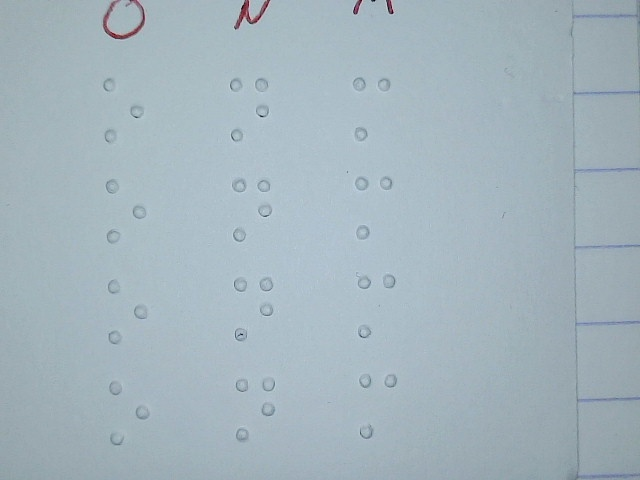M: (348, 74, 394, 144), (350, 173, 396, 243), (354, 272, 400, 342), (355, 370, 401, 440)
N: (226, 75, 272, 145), (229, 173, 275, 243), (231, 274, 277, 344), (232, 375, 278, 445)
O: (100, 76, 146, 146), (104, 176, 150, 246), (105, 276, 151, 346), (105, 378, 151, 448)
